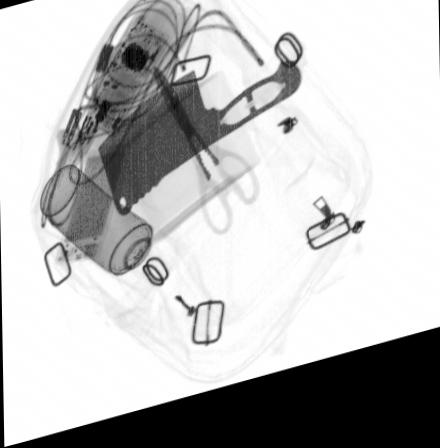Knife: (97, 75, 305, 221)
Powerbank: (51, 149, 128, 270)
Scissors: (153, 72, 263, 246)
Sprayer: (35, 166, 187, 304)
